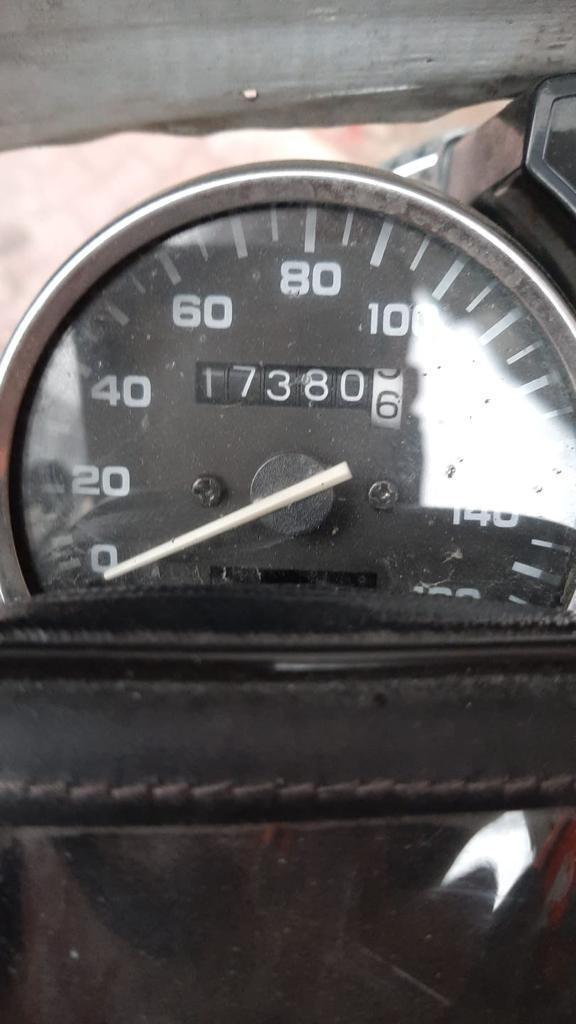0: (339, 363, 366, 409)
1: (198, 361, 218, 413)
3: (264, 366, 291, 403)
6: (373, 385, 404, 423)
7: (230, 360, 259, 402)
8: (303, 366, 331, 404)
odometer: (188, 353, 414, 436)
